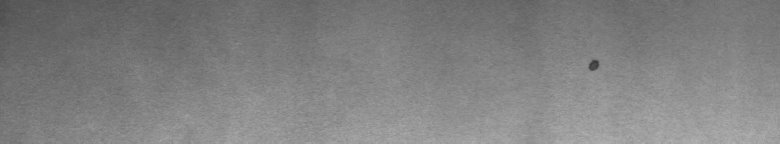fi: (583, 52, 604, 80)
